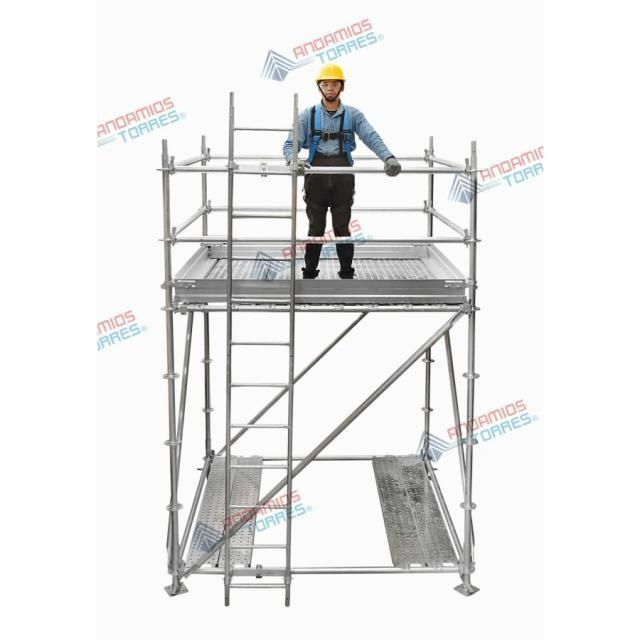Arnes_seguridad: (306, 104, 350, 165)
